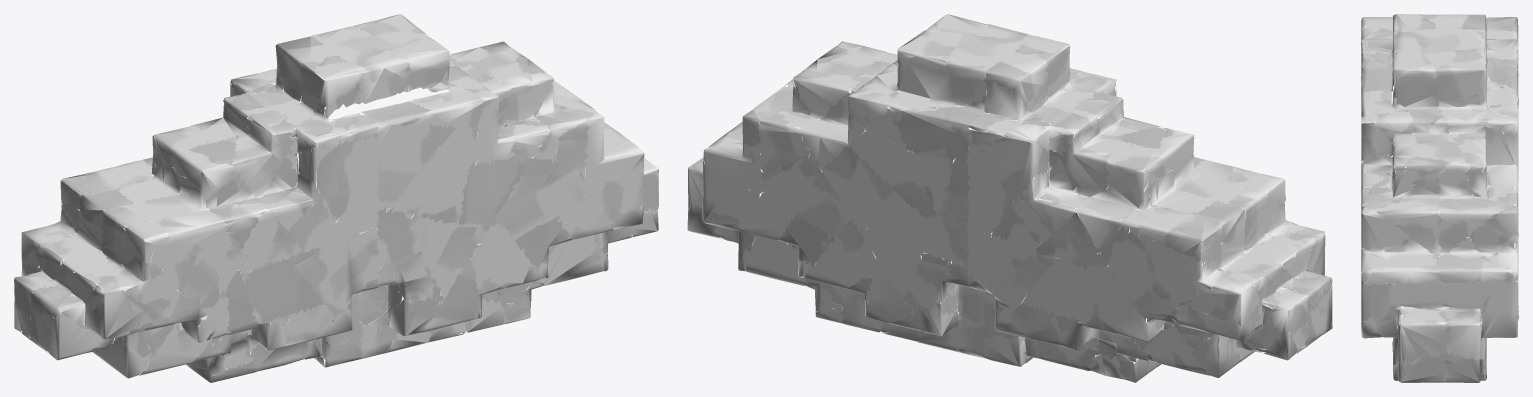
Rendered from nube1.glb.
3 renders of one model, left to right at view 1: azimuth 30°, elevation 25°; view 2: azimuth 150°, elevation 25°; view 3: azimuth 270°, elevation 25°, orthographic. The views are drawn at different scales.
Visible parts, largest first — view 1: Mesh_0.013; view 2: Mesh_0.013; view 3: Mesh_0.013.
Part boxes in pixels (<box>): Mesh_0.013: <box>14,14,658,382</box>; Mesh_0.013: <box>687,14,1332,382</box>; Mesh_0.013: <box>1361,14,1518,382</box>.
Size of the model in its own units: 190 by 87.09 by 46.67.
1 material, 1 textured.
